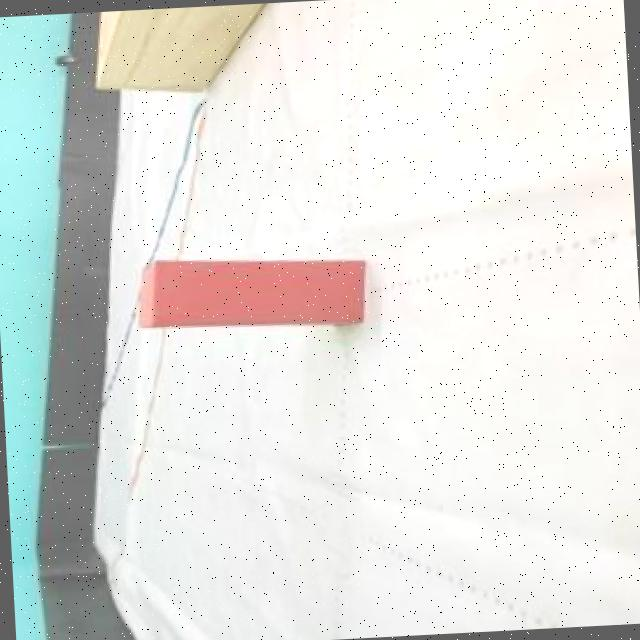redbox: (136, 248, 369, 332)
